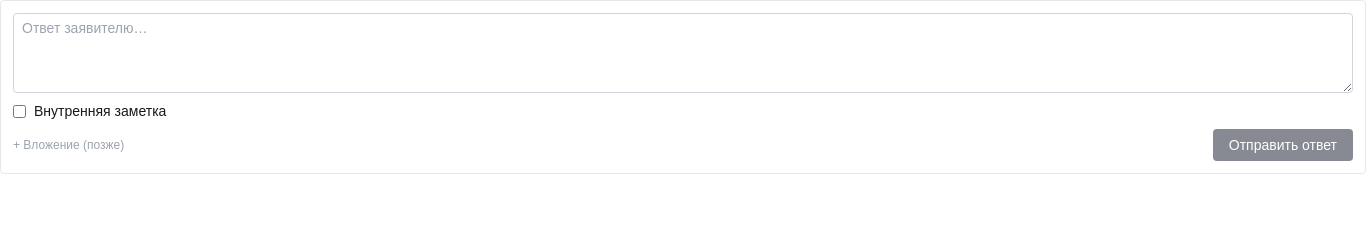
Test: MessageComposer — ошибки › 403 → inline-алерт с текстом title
This screenshot has width=1366, height=237.
In the text box named "Текст сообщения": (683, 53) [13, 13, 1353, 93], type "x"
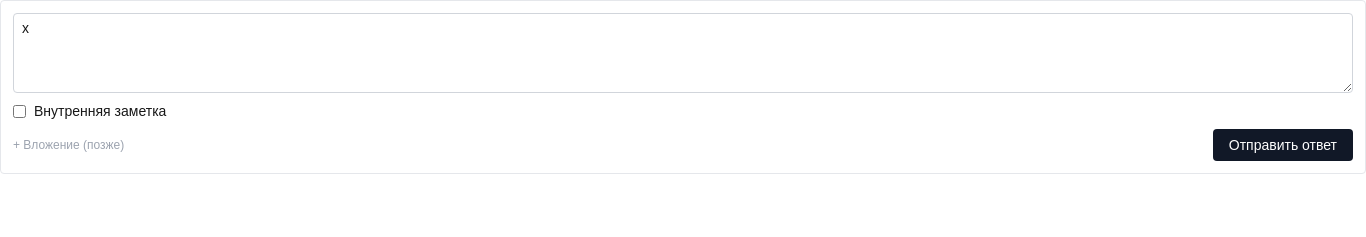
Click the button "Отправить ответ": (1283, 145) [1213, 129, 1353, 161]
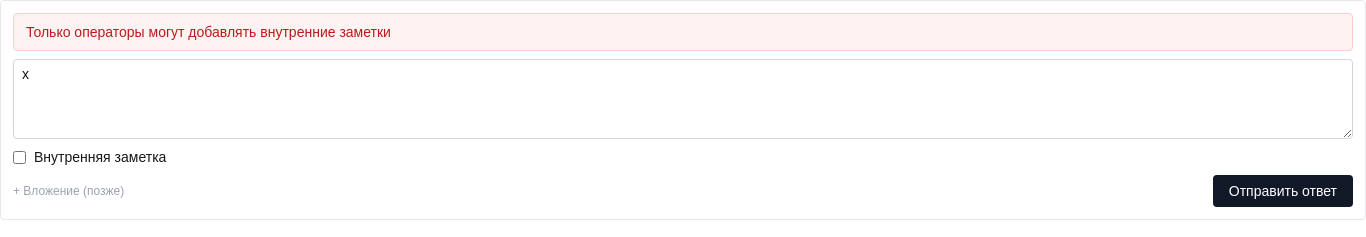
Now the message reads "Только операторы могут добавлять внутренние заметки", box [26, 24, 391, 40]
